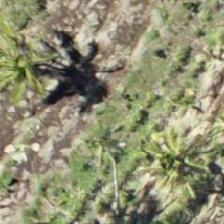coconut_tree: (132, 109, 222, 199), (0, 10, 75, 100)
